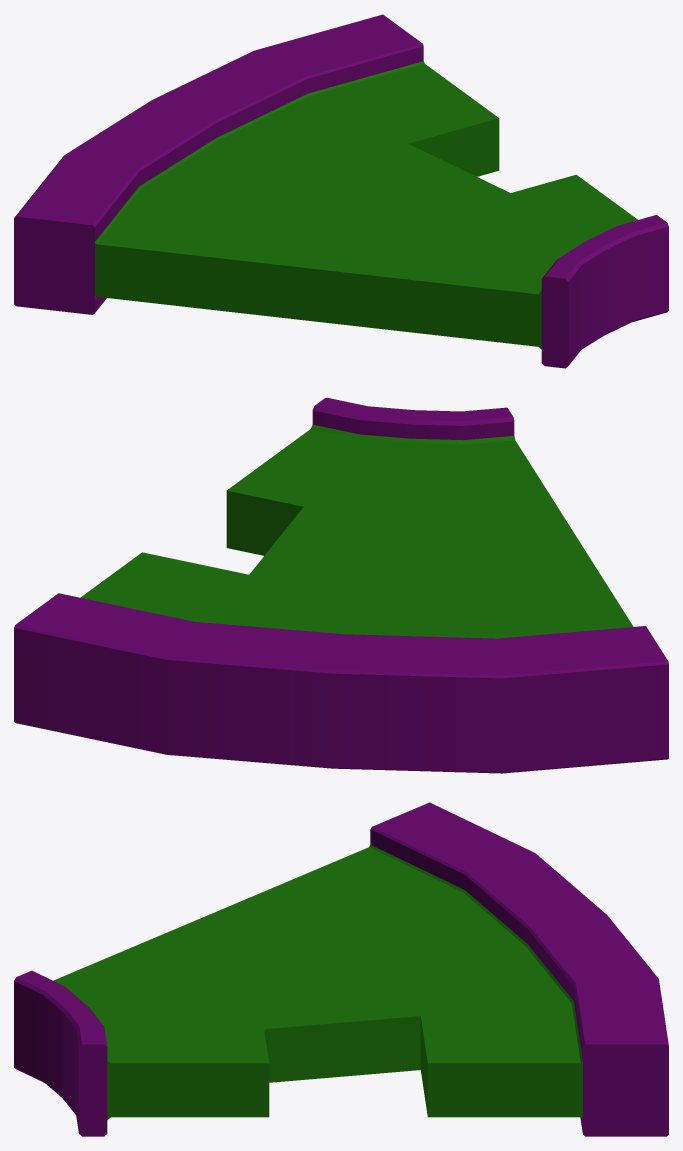
File: SM_stage_d_hole.fbx
3 views of the same model, one above another, from view 1: azimuth 30°, elevation 25°; view 2: azimuth 150°, elevation 25°; view 3: azimuth 270°, elevation 25° (orthographic). The views are drawn at different scales.
Parts seen in each view (by area): view 1: SM_stage_onequarter; view 2: SM_stage_onequarter; view 3: SM_stage_onequarter.
Boxes of the visible parts, x1,y1,x2,y2 form: SM_stage_onequarter: [14, 14, 668, 368]; SM_stage_onequarter: [14, 397, 668, 773]; SM_stage_onequarter: [14, 802, 668, 1136].
Bounding box in the file's own units: 5.51 × 0.9768 × 6.29.
